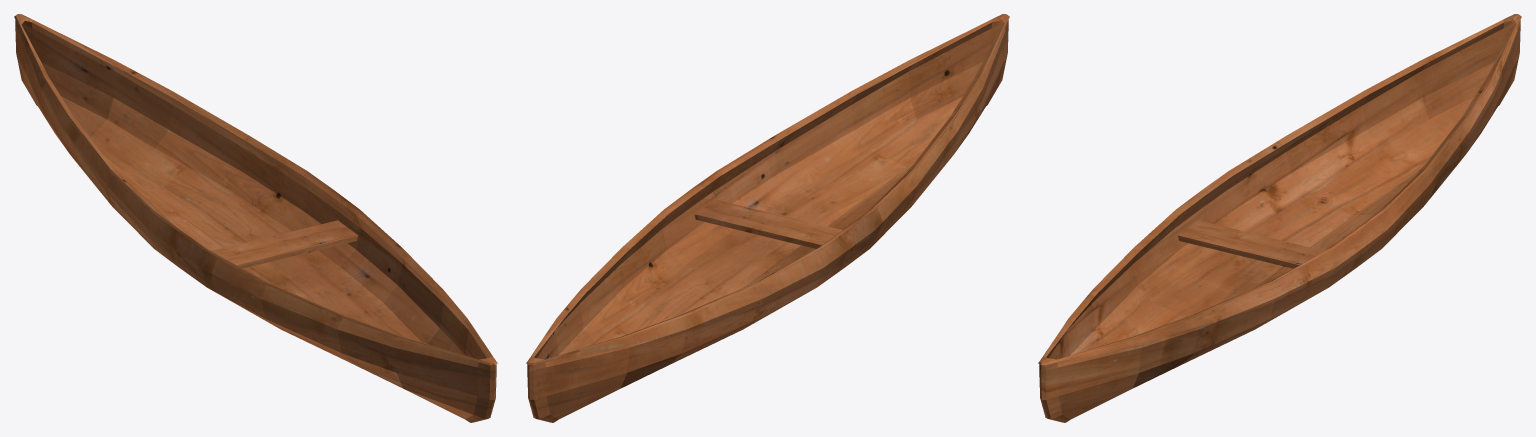
File: boat.obj
The picture shows the model from 3 angles, left to right: view 1: azimuth 30°, elevation 25°; view 2: azimuth 150°, elevation 25°; view 3: azimuth 330°, elevation 25°; orthographic projection.
Parts seen in each view (by area): view 1: boat_Plane; view 2: boat_Plane; view 3: boat_Plane.
Part boxes in pixels (x1,y1,x2,y2): boat_Plane: (14, 14, 497, 422); boat_Plane: (526, 14, 1009, 422); boat_Plane: (1038, 14, 1521, 422).
Bounding box in the file's own units: 1.61 × 0.7922 × 8.12.
1 material, 1 textured.
